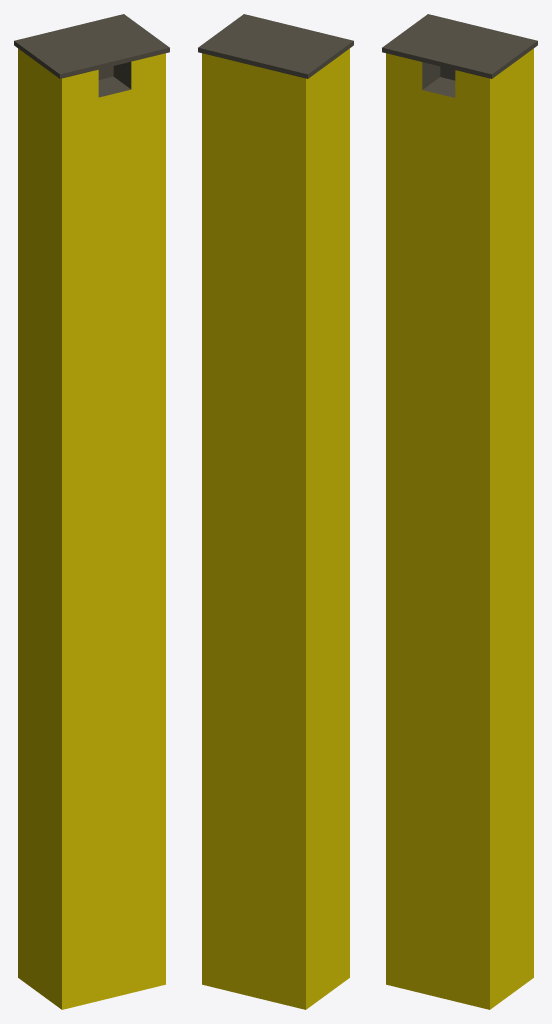
The model's file is SM_garage_rod_04.fbx.
3 renders of one model, left to right at view 1: azimuth 30°, elevation 25°; view 2: azimuth 150°, elevation 25°; view 3: azimuth 330°, elevation 25°, orthographic.
Visible parts, largest first — view 1: garage_rod_04; view 2: garage_rod_04; view 3: garage_rod_04.
Boxes of the visible parts, x1=… form: garage_rod_04: x1=14, y1=14, x2=169, y2=1009; garage_rod_04: x1=198, y1=14, x2=353, y2=1009; garage_rod_04: x1=382, y1=14, x2=537, y2=1009.
Bounding box in the file's own units: 43.93 × 358 × 31.84.
